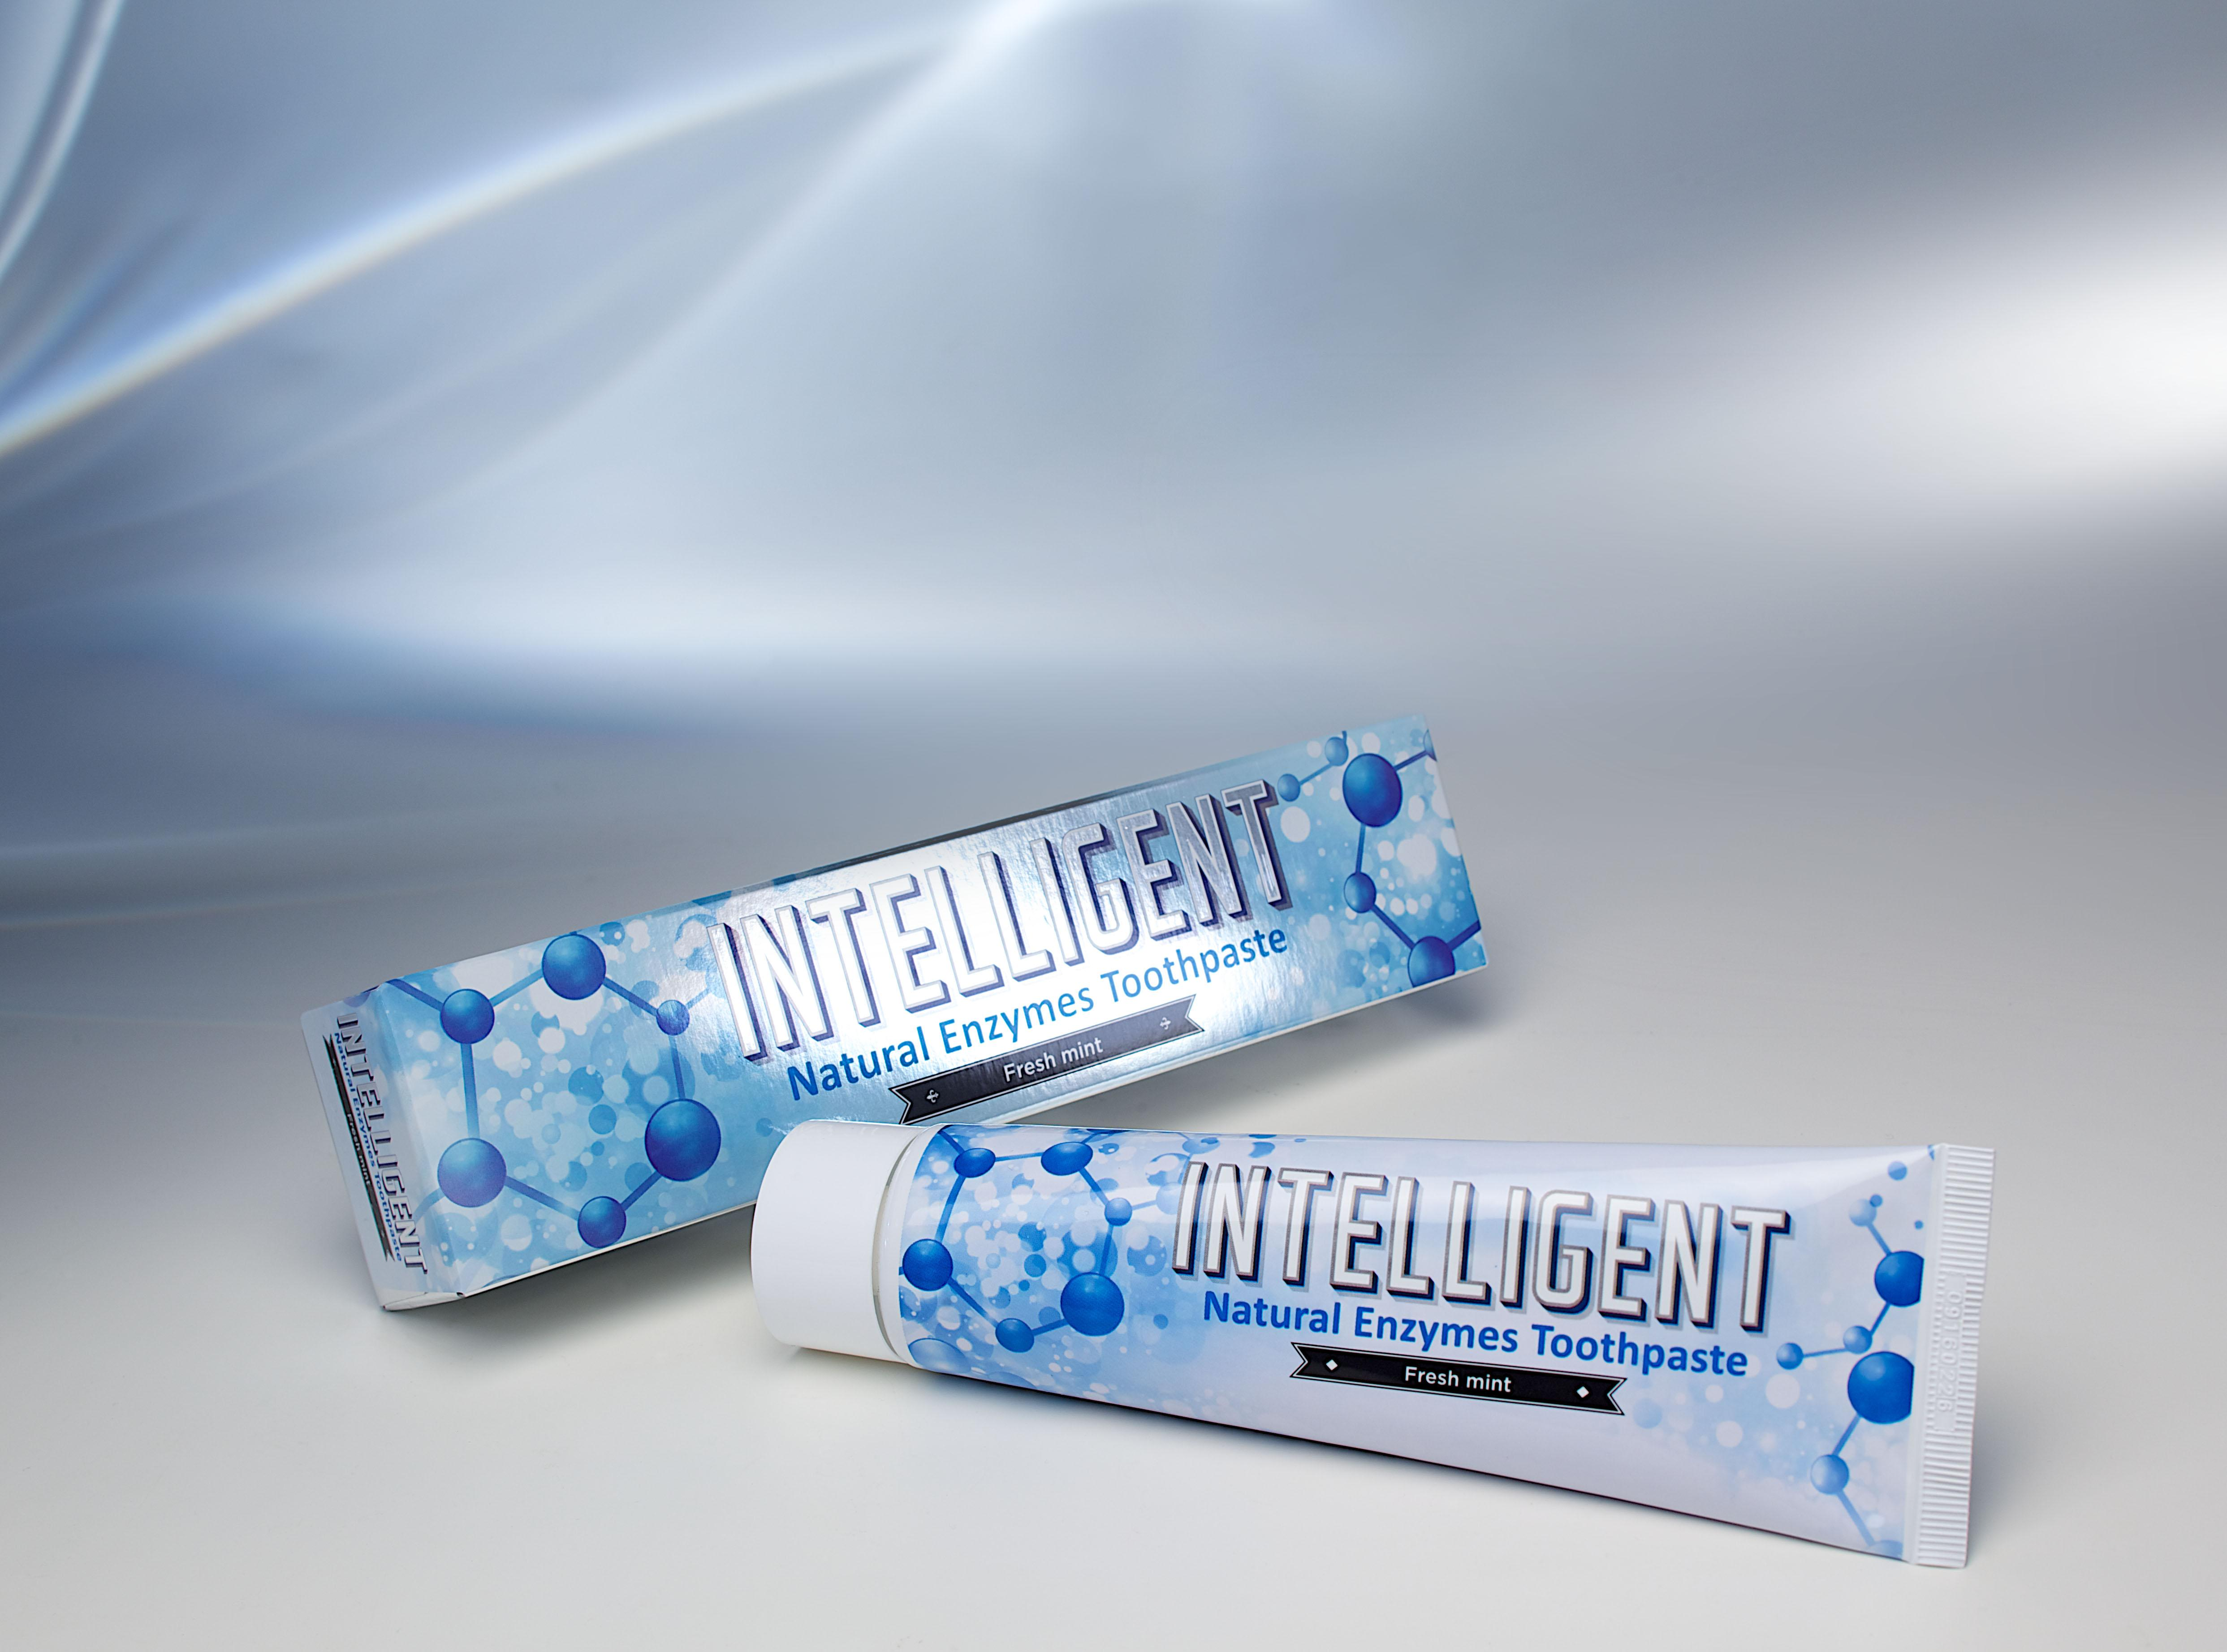toothpaste: (292, 678, 1583, 1324), (701, 1091, 2112, 1583)
